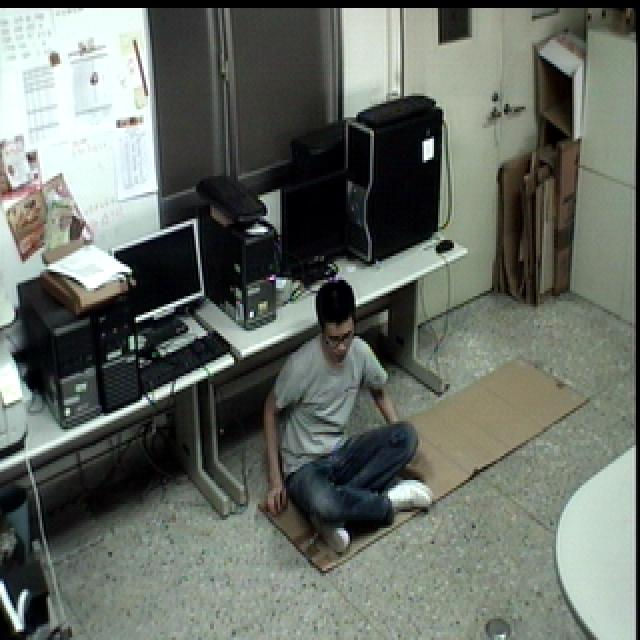sit: (253, 279, 442, 551)
